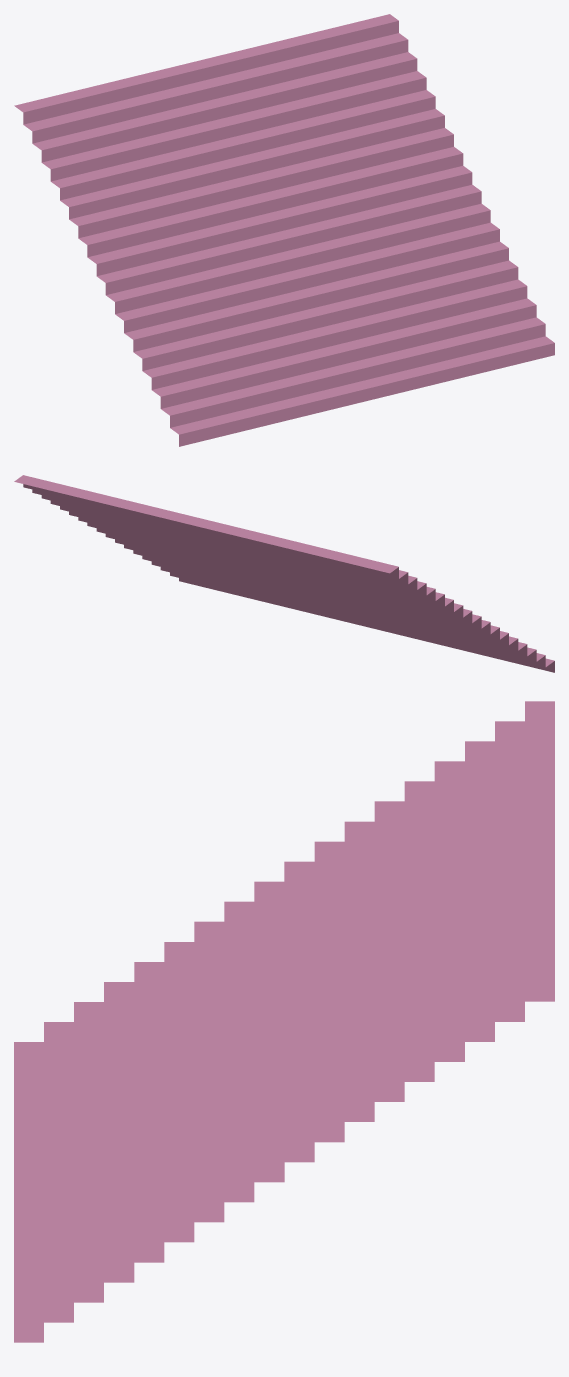
The model's file is Schody.fbx.
3 renders of one model, top to bottom at view 1: azimuth 30°, elevation 25°; view 2: azimuth 150°, elevation 25°; view 3: azimuth 270°, elevation 25°, orthographic. The views are drawn at different scales.
Parts seen in each view (by area): view 1: schody; view 2: schody; view 3: schody.
Part boxes in pixels (<box>): schody: <box>14,14,554,446</box>; schody: <box>14,475,554,672</box>; schody: <box>14,701,554,1342</box>.
Size of what is drawn, in the model's own units: 995 by 557 by 757.
